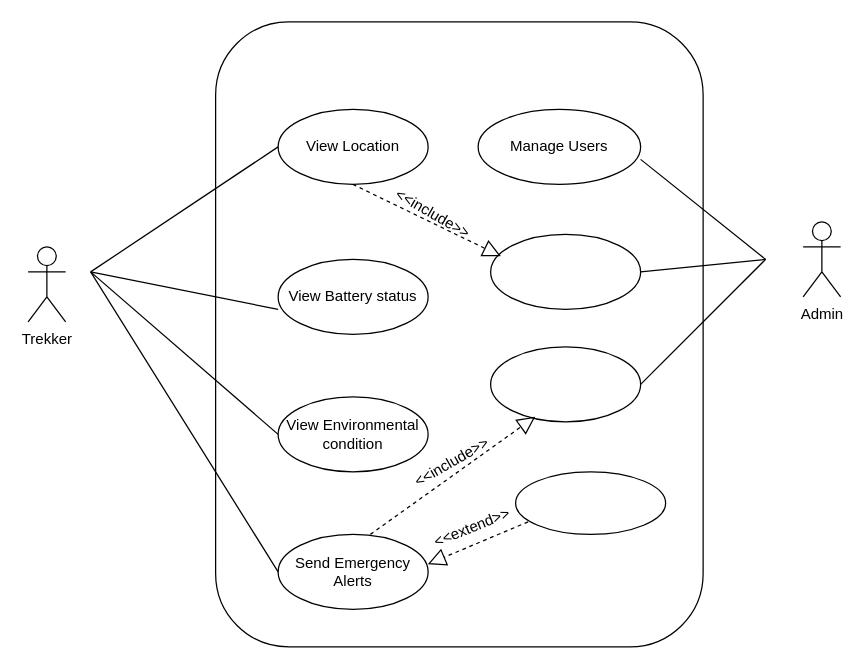
The diagram is 864 pixels wide and 669 high, and some of its shapes have lost their labels. Here are the shapes that lost their labels. From the top down, the centre of each, then its label:
the point at 565,271: View All Trekkers Data
the point at 565,384: Update Alerts
the point at 590,502: Recieve SOS
